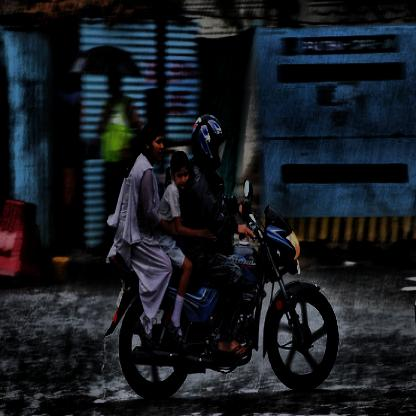not_wear: (141, 121, 164, 167), (168, 152, 189, 190)
wear: (195, 110, 222, 168)
